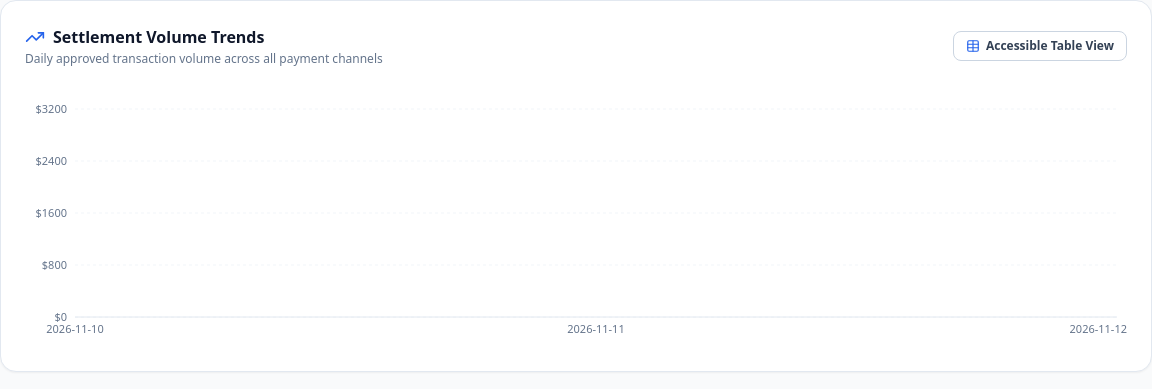
Test: VisaPay Merchant Dashboard & Analytics › should toggle between visual chart and accessible data table (WCAG 1.1.1)
The image size is (1152, 389).
Note: Click toggle to show accessible table
What coordinates should you click on to do the following:
click the button "Accessible Table View"
I would click on:
 (1040, 46)
Its box is [953,31,1127,61].
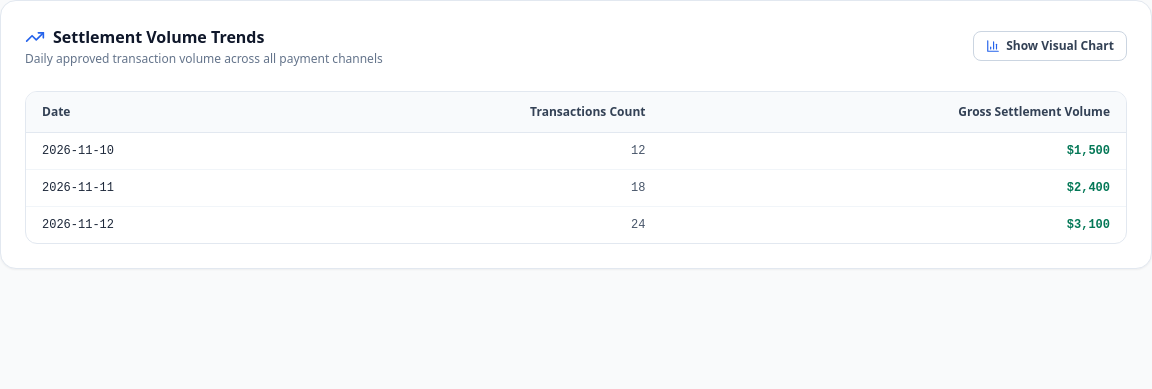
Check: the table is shown, box [26,92,1126,243]
Check: the column heading "Gross Settlement Volume" is shown, box [662,92,1126,132]
Check: the text "$1,500" is shown, box [662,132,1126,170]
Note: Toggle back to visual chart
What coordinates should you click on to do the following:
click the button named "Accessible Table View"
I would click on:
 (1050, 46)
Its box is [973,31,1127,61].
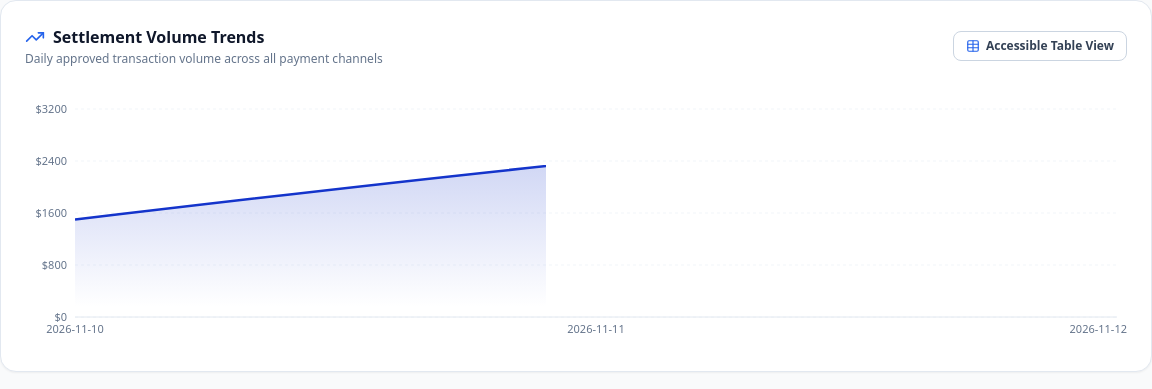
Check: the table is gone
